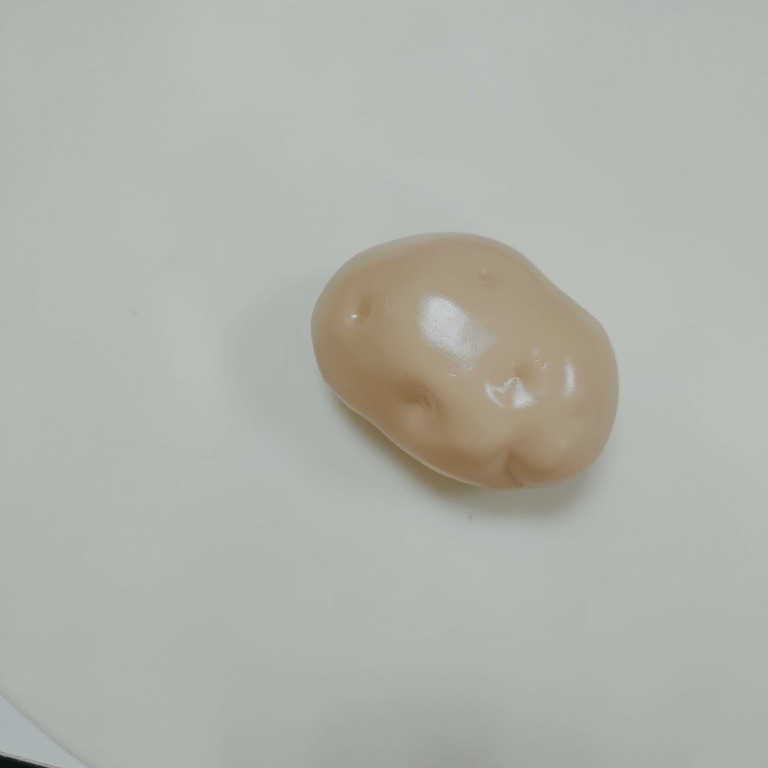fruit_potato: (306, 228, 624, 496)
